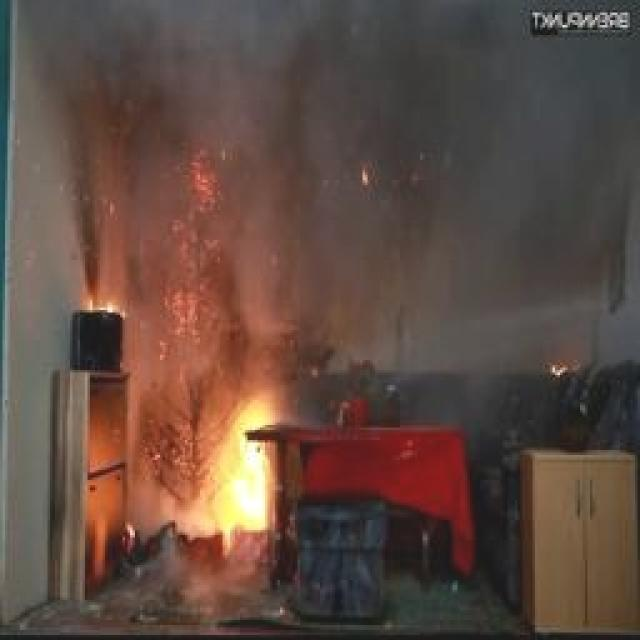fire: (140, 316, 298, 579)
